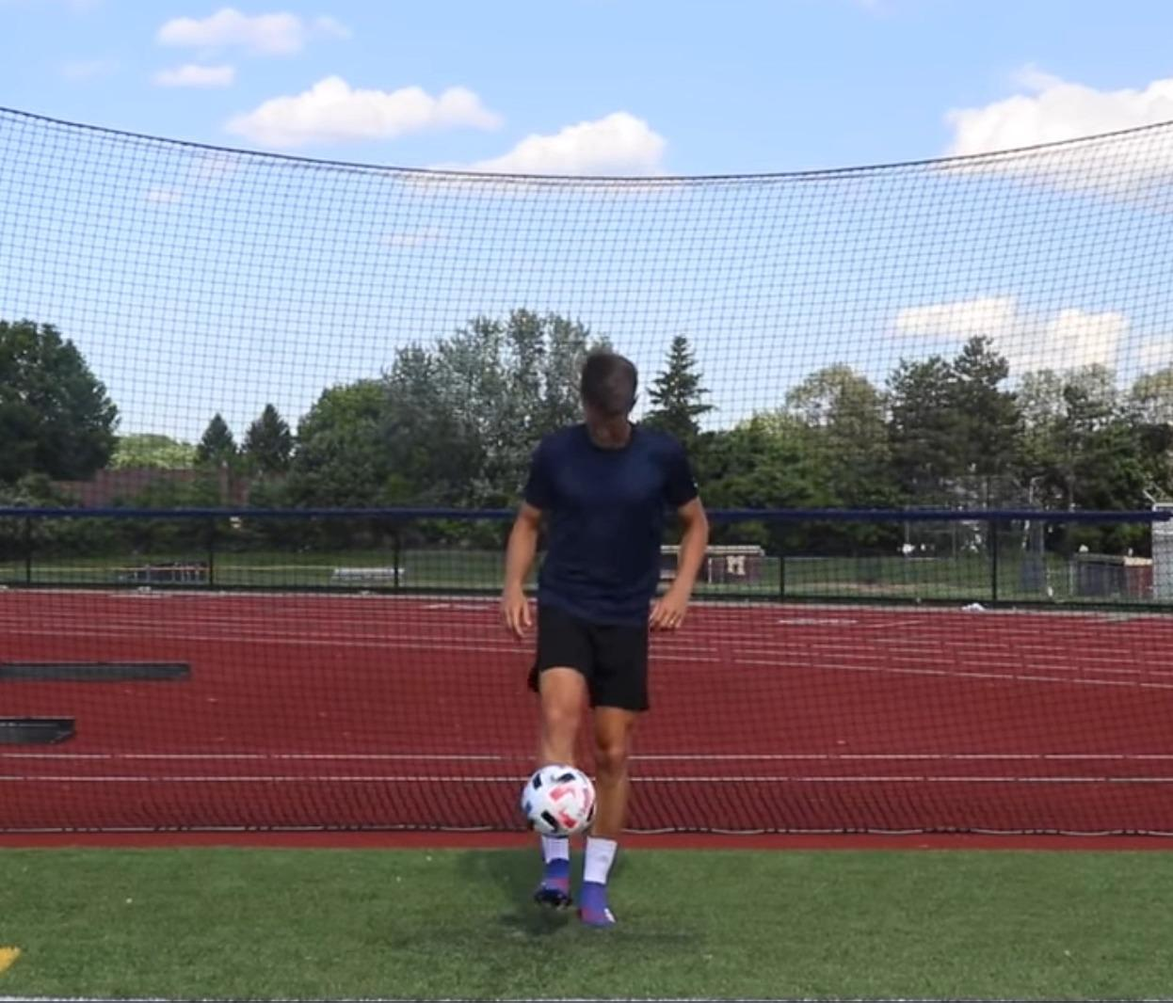ball: (520, 766, 594, 835)
foot: (575, 873, 621, 934), (534, 852, 577, 910)
person: (500, 350, 710, 927)
